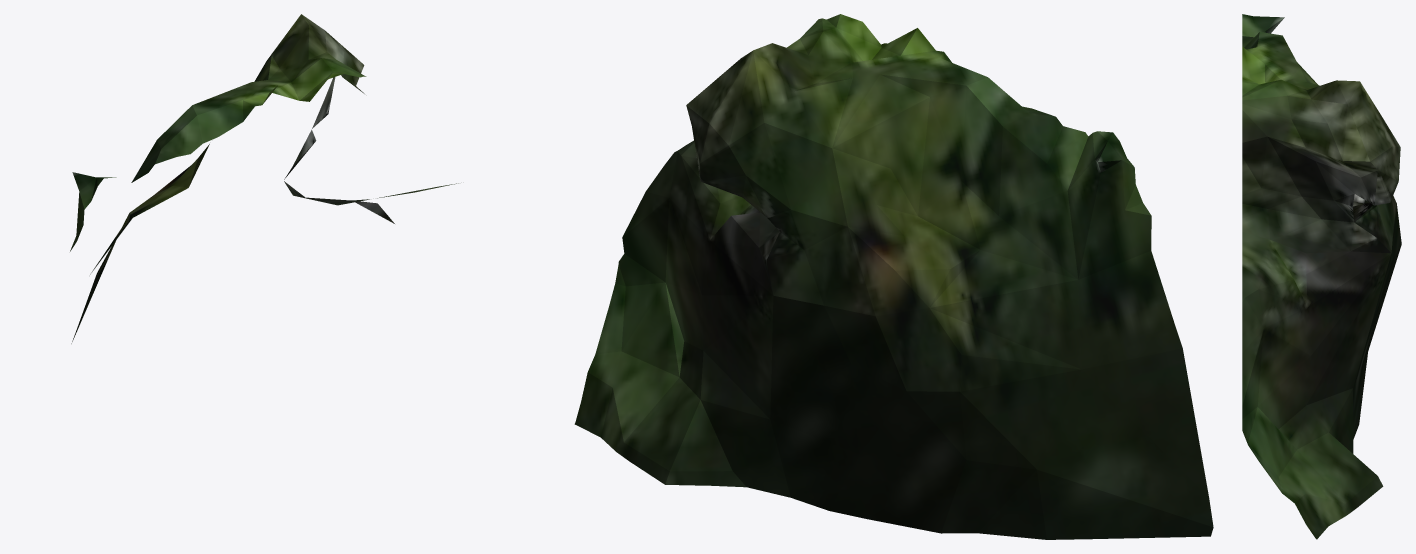
3 renders of one model, left to right at view 1: azimuth 30°, elevation 25°; view 2: azimuth 150°, elevation 25°; view 3: azimuth 270°, elevation 25°, orthographic. The views are drawn at different scales.
Bounding box in the file's own units: 0.5332 × 0.379 × 0.1464.
Materials: 1 (1 with a texture image).
